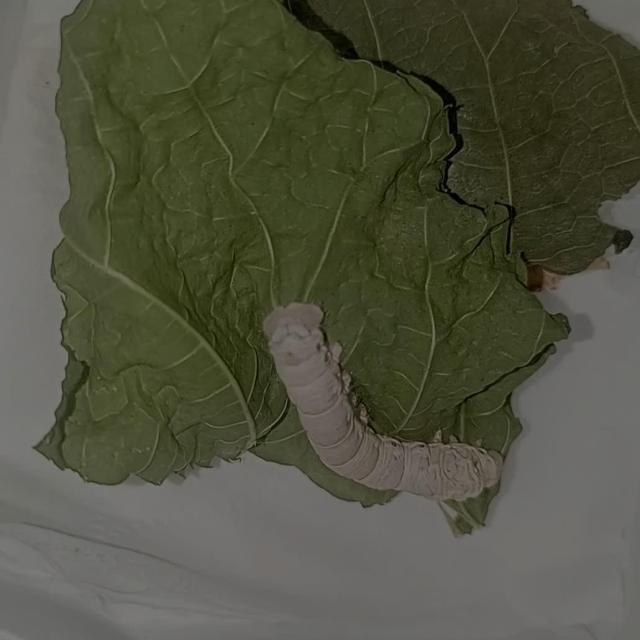Healthy: (242, 283, 520, 531)
